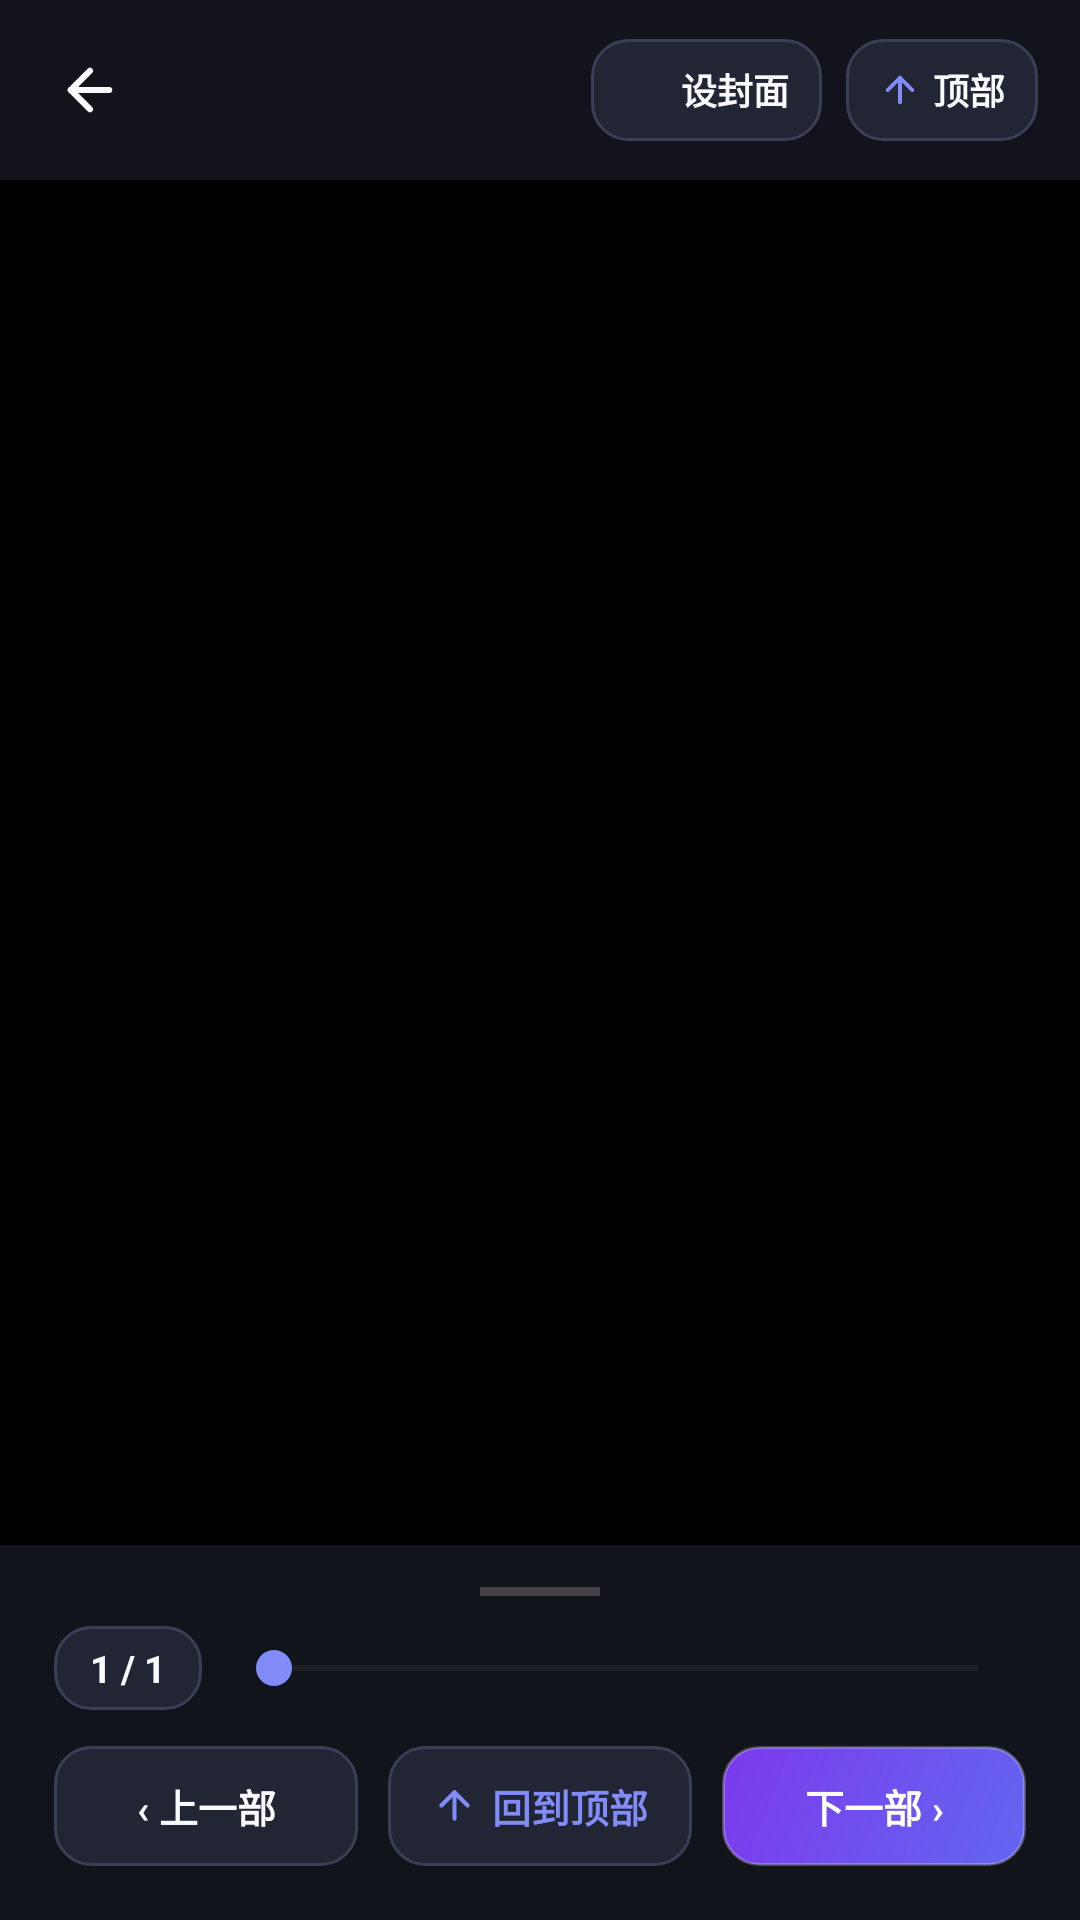

Icon click points for this 1080x1920 phone screenshot, format point (x, y):
top arrow: point (900, 89), point (454, 1805)
返回: point (90, 90)
